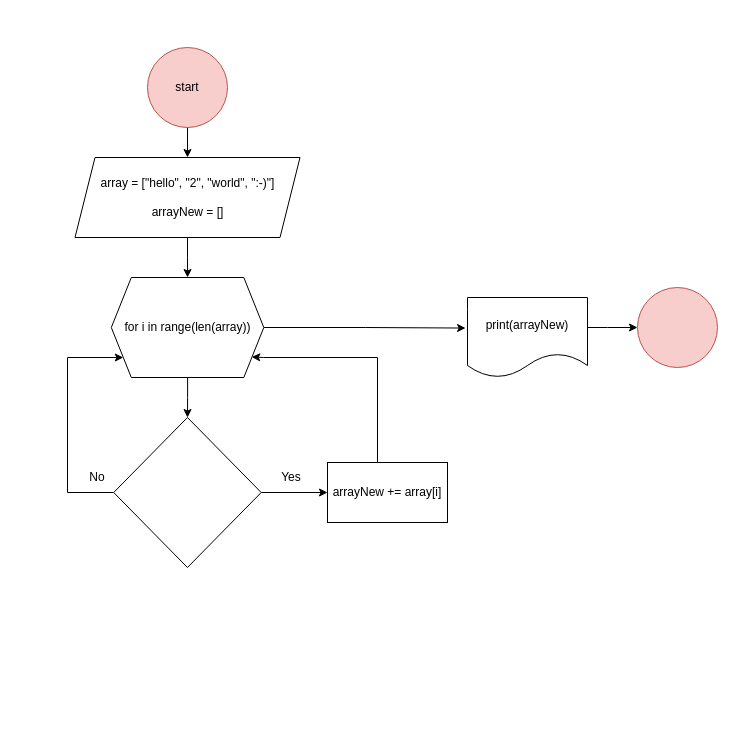
Some shapes in this 754 by 754 pixel diagram are drawn without their labels. Each missing label, with the centre of its shape:
"end" belongs at point (677, 327).
"if len(array[i]) <= 3" belongs at point (187, 492).
